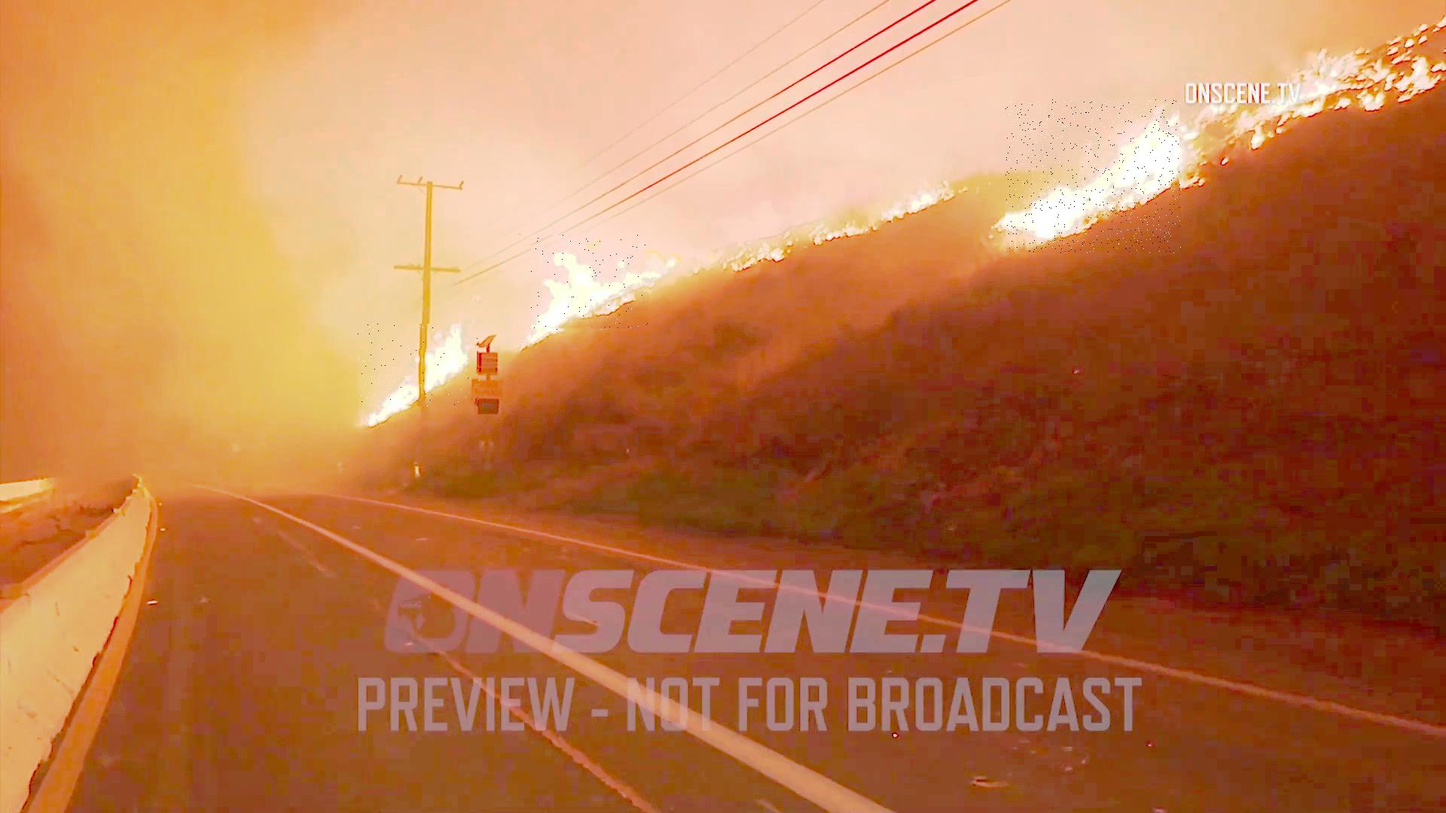fire: (1006, 100, 1181, 254), (532, 235, 650, 330), (358, 324, 481, 407)
